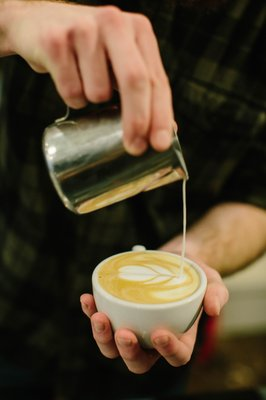pizza: (91, 248, 209, 367)
